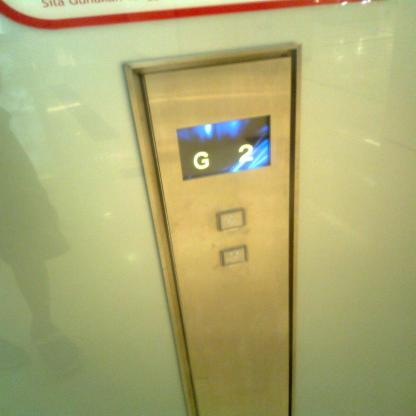down: (218, 243, 249, 268)
led: (173, 112, 274, 183)
up: (212, 206, 248, 232)
